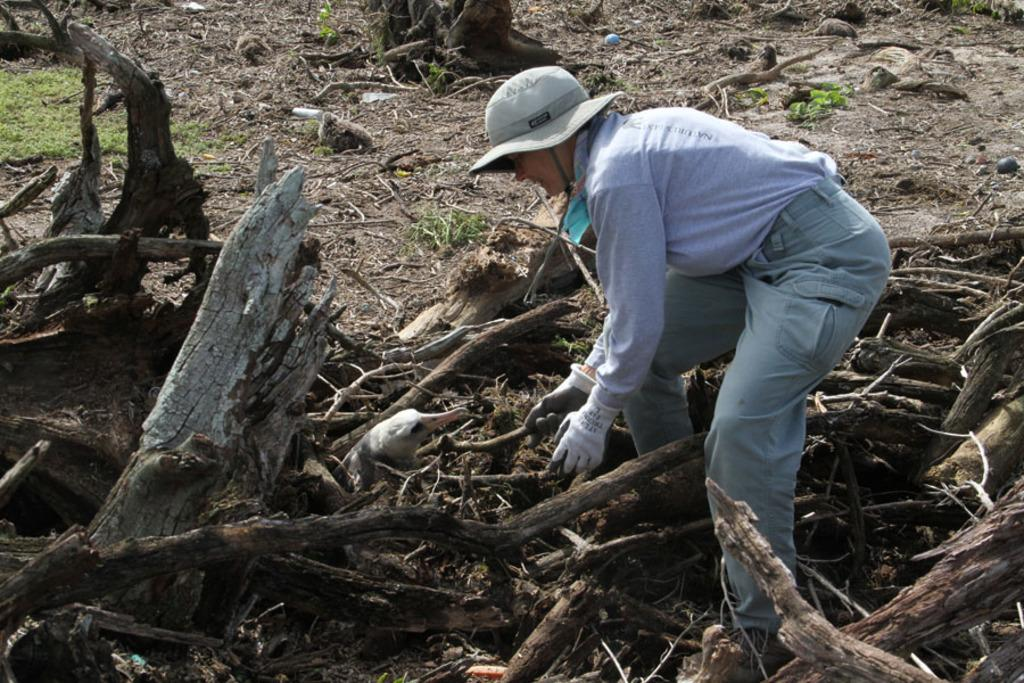Hat: (470, 66, 622, 197)
